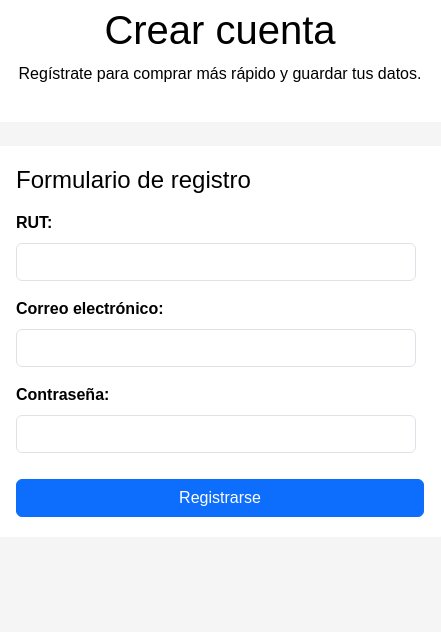
Scenario: Pruebas de Validación en el Formulario de Registro › debe rechazar un correo con dominio no permitido
// RUT válido pero correo no permitido (@hotmail.com)
Type "192837465" into the field labelled "RUT:" at (216, 262), box [16,243,416,281]
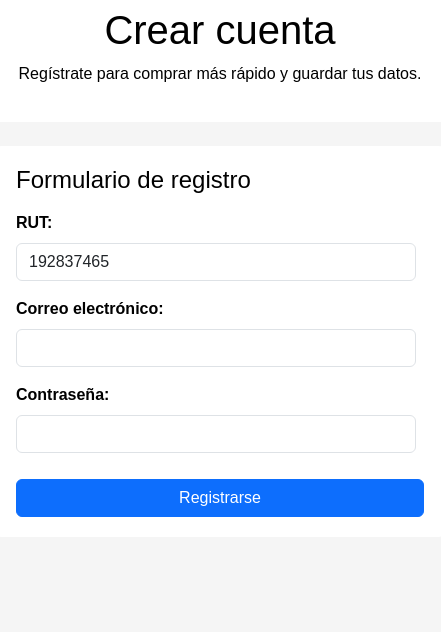
Type "usuario@hotmail.com" into the field labelled "Correo electrónico:" at (216, 348), box [16,329,416,367]
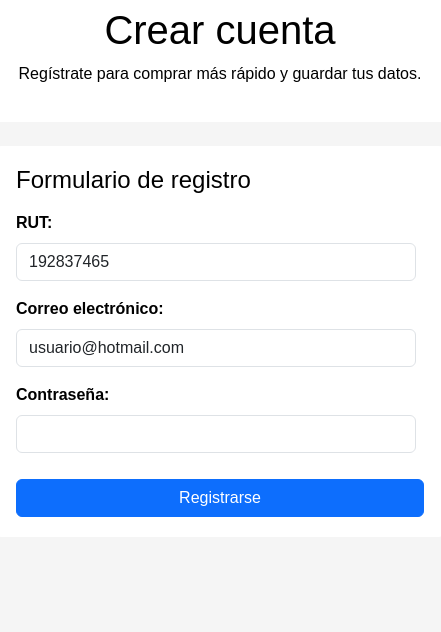
Click the button "Registrarse" at (220, 498), box [16,479,424,517]
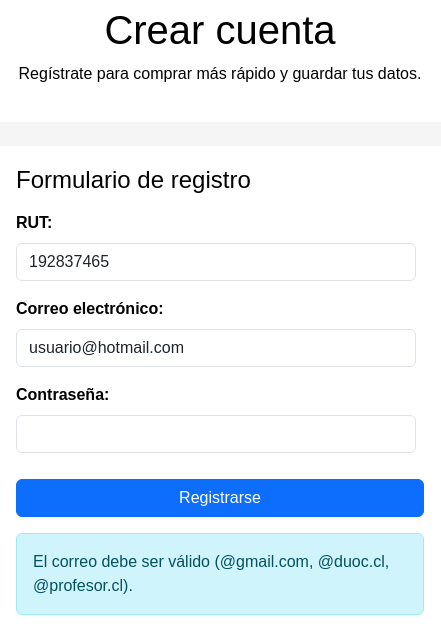
Now the text "El correo debe ser válido (@gmail.com, @duoc.cl, @profesor.cl)." is shown, box [16,533,424,615]
